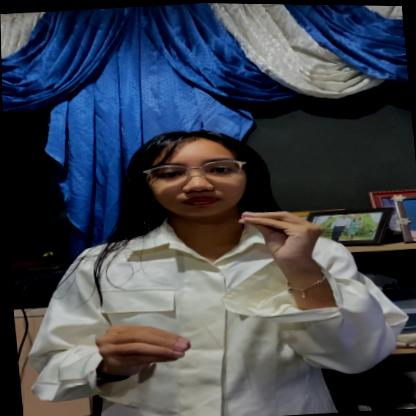Fix: (69, 199, 346, 400)
